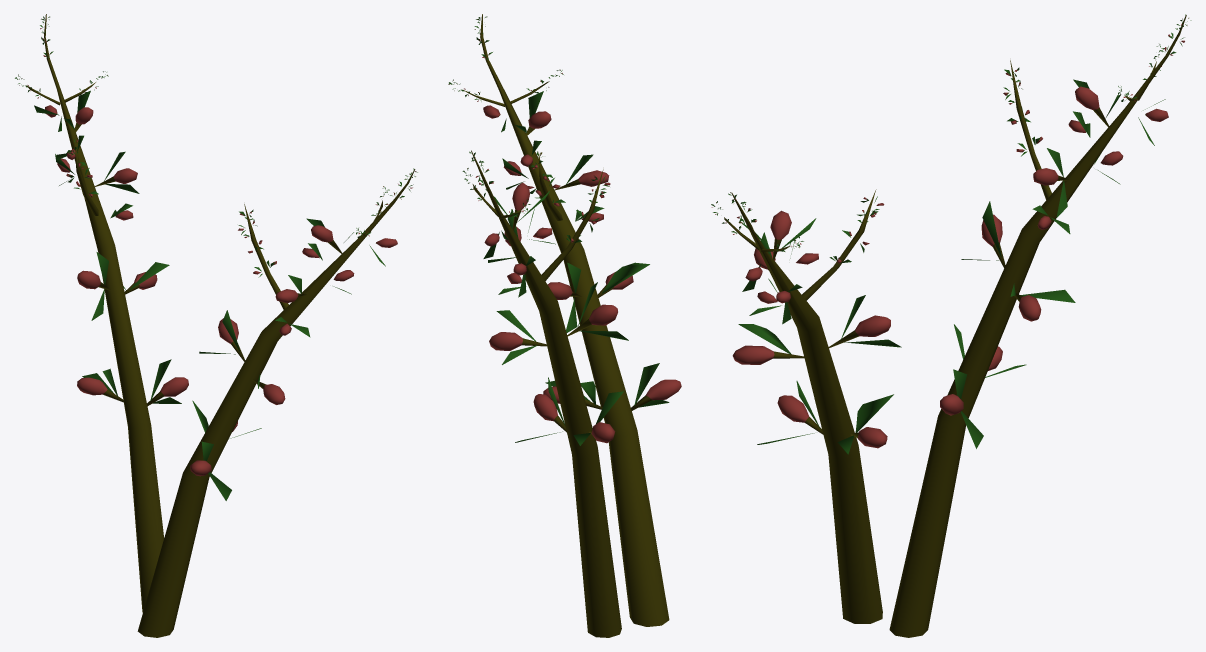
File: SM_Catuaba_001_LOD3.fbx
3 renders of one model, left to right at view 1: azimuth 30°, elevation 25°; view 2: azimuth 150°, elevation 25°; view 3: azimuth 270°, elevation 25°, orthographic. The views are drawn at different scales.
Parts seen in each view (by area): view 1: Catuaba; view 2: Catuaba; view 3: Catuaba.
Boxes of the visible parts, x1,y1,x2,y2 form: Catuaba: [15, 14, 417, 637]; Catuaba: [448, 14, 681, 637]; Catuaba: [711, 14, 1191, 637].
Bounding box in the file's own units: 27.02 × 55.9 × 39.49.
